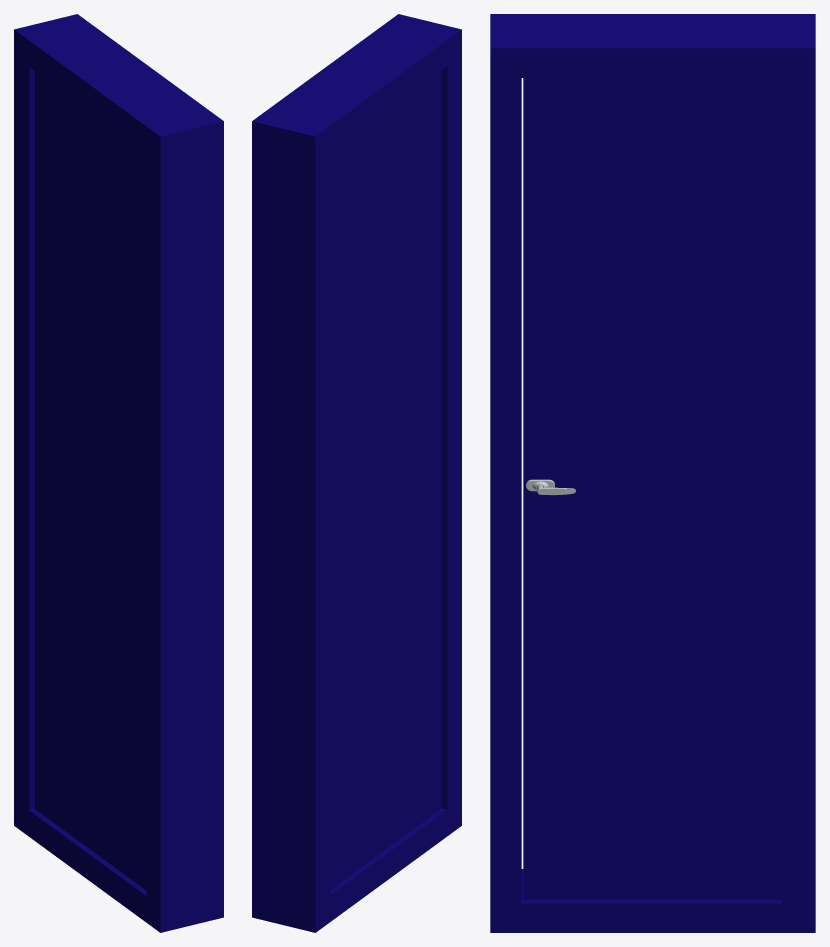
The model's file is classroom_door_v2.fbx.
The picture shows the model from 3 angles, left to right: view 1: azimuth 30°, elevation 25°; view 2: azimuth 150°, elevation 25°; view 3: azimuth 270°, elevation 25°; orthographic projection. The views are drawn at different scales.
Parts seen in each view (by area): view 1: Window Frame.001, Window.001; view 2: Window Frame.001, Window.001; view 3: Window.001, Window Frame.001.
Part boxes in pixels (box(x1,y1,x2,y2)): Window Frame.001: box(14, 14, 223, 932); Window.001: box(35, 71, 146, 889); Window Frame.001: box(252, 14, 461, 932); Window.001: box(330, 71, 441, 889); Window.001: box(523, 78, 781, 899); Window Frame.001: box(490, 14, 815, 932).
Bounding box in the file's own units: 54.76 × 600 × 200.
